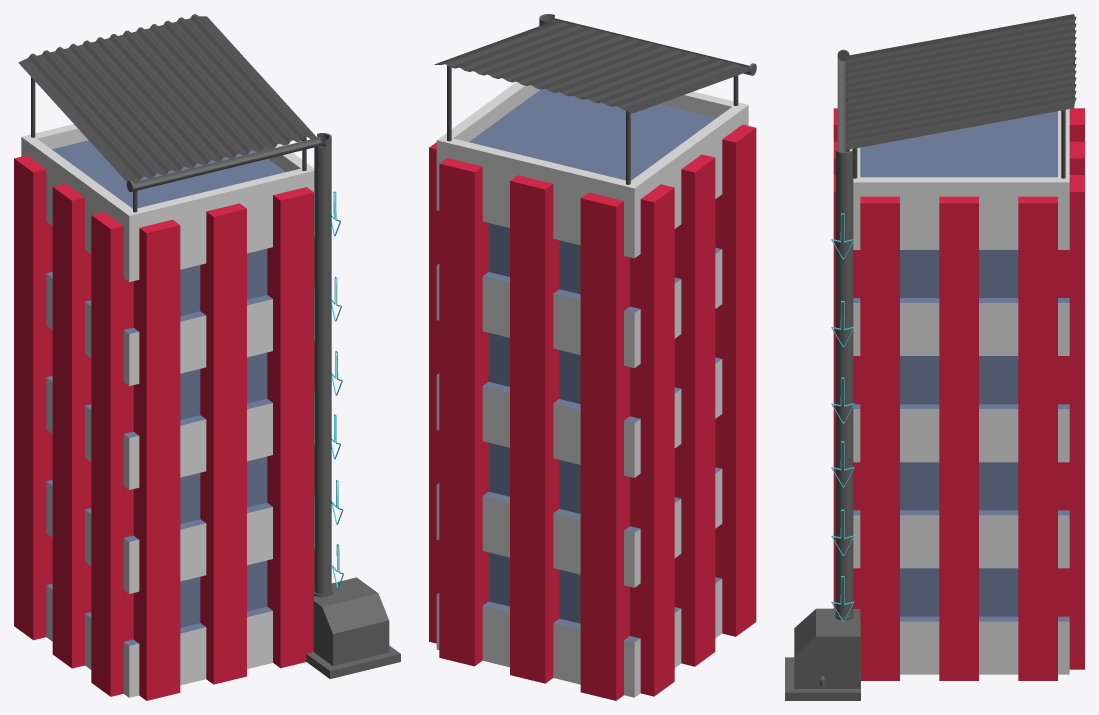
The model's file is Water_Harvester.fbx.
3 renders of one model, left to right at view 1: azimuth 30°, elevation 25°; view 2: azimuth 150°, elevation 25°; view 3: azimuth 270°, elevation 25°, orthographic. The views are drawn at different scales.
Visible parts, largest first — view 1: Building 3, Building 3.001, Pipe; view 2: Building 3, Building 3.001, Pipe; view 3: Building 3, Building 3.001, Pipe.
Boxes of the visible parts, x1=… form: Building 3: x1=14, y1=77, x2=314, y2=700; Building 3.001: x1=18, y1=14, x2=318, y2=183; Pipe: x1=126, y1=133, x2=400, y2=678; Building 3: x1=429, y1=65, x2=756, y2=700; Building 3.001: x1=434, y1=21, x2=748, y2=113; Pipe: x1=539, y1=14, x2=756, y2=75; Building 3: x1=833, y1=108, x2=1084, y2=680; Building 3.001: x1=846, y1=14, x2=1076, y2=149; Pipe: x1=785, y1=49, x2=860, y2=700.
Bounding box in the file's own units: 454 × 956 × 455.
